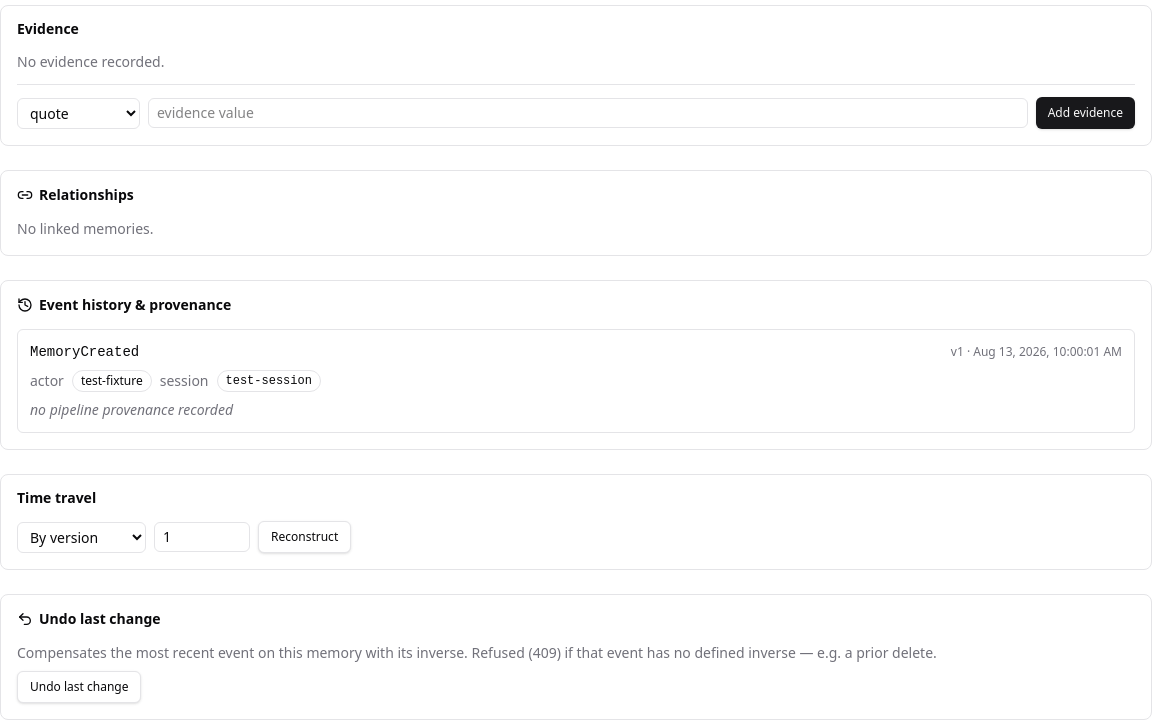
Test: undo with no compensator is refused as a 409, not silently ignored
This screenshot has width=1152, height=720.
(page scrolled)
Click the button "Undo last change" at (79, 687), box [17,671,142,703]
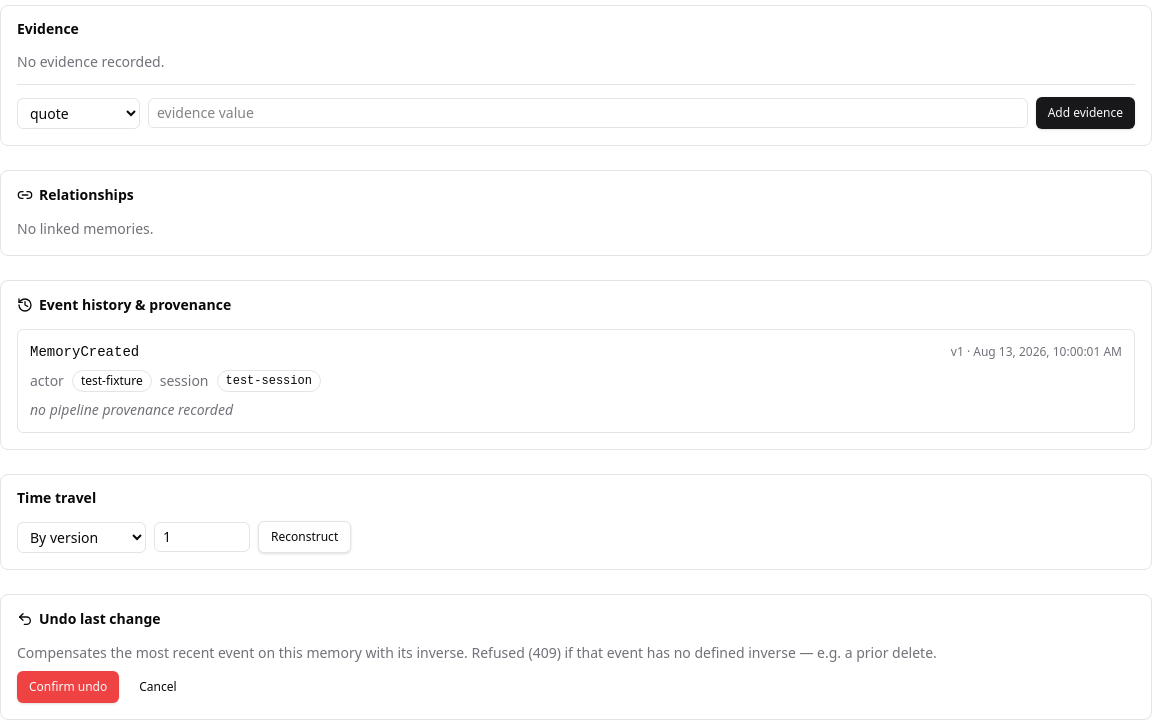
Click the button "Confirm undo" at (68, 687), box [17,671,119,703]
(page scrolled)
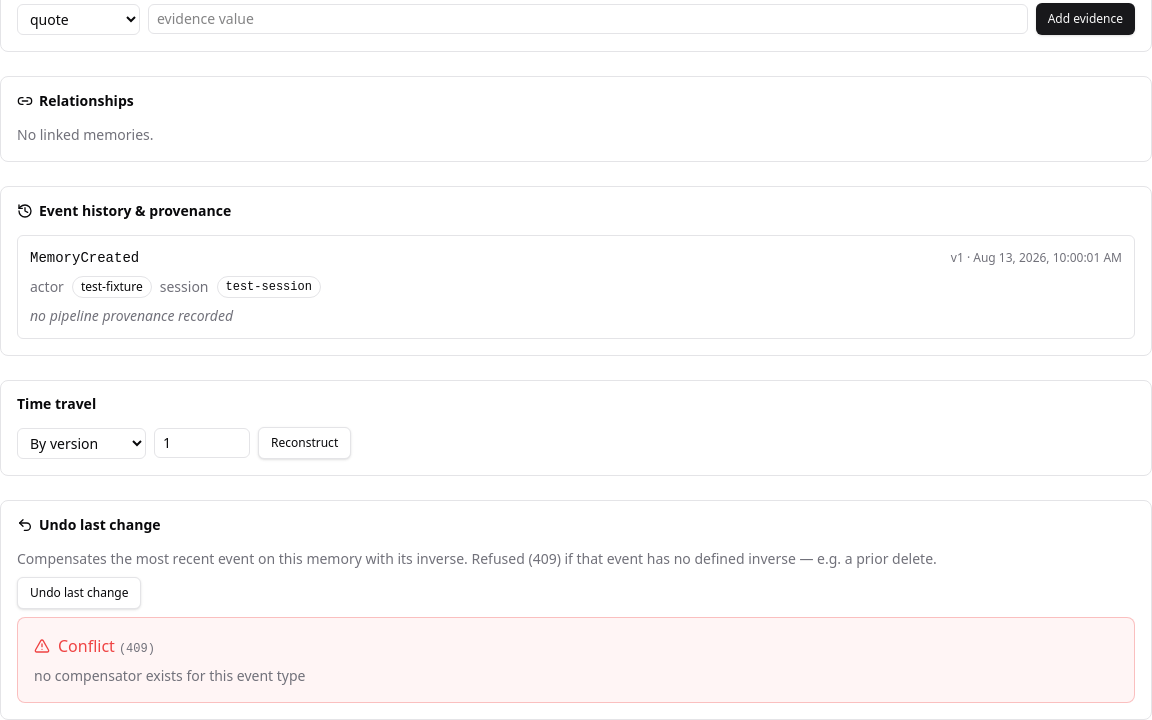
Expected: the text "no compensator exists for this event type" is shown, [34,666,306,685]
